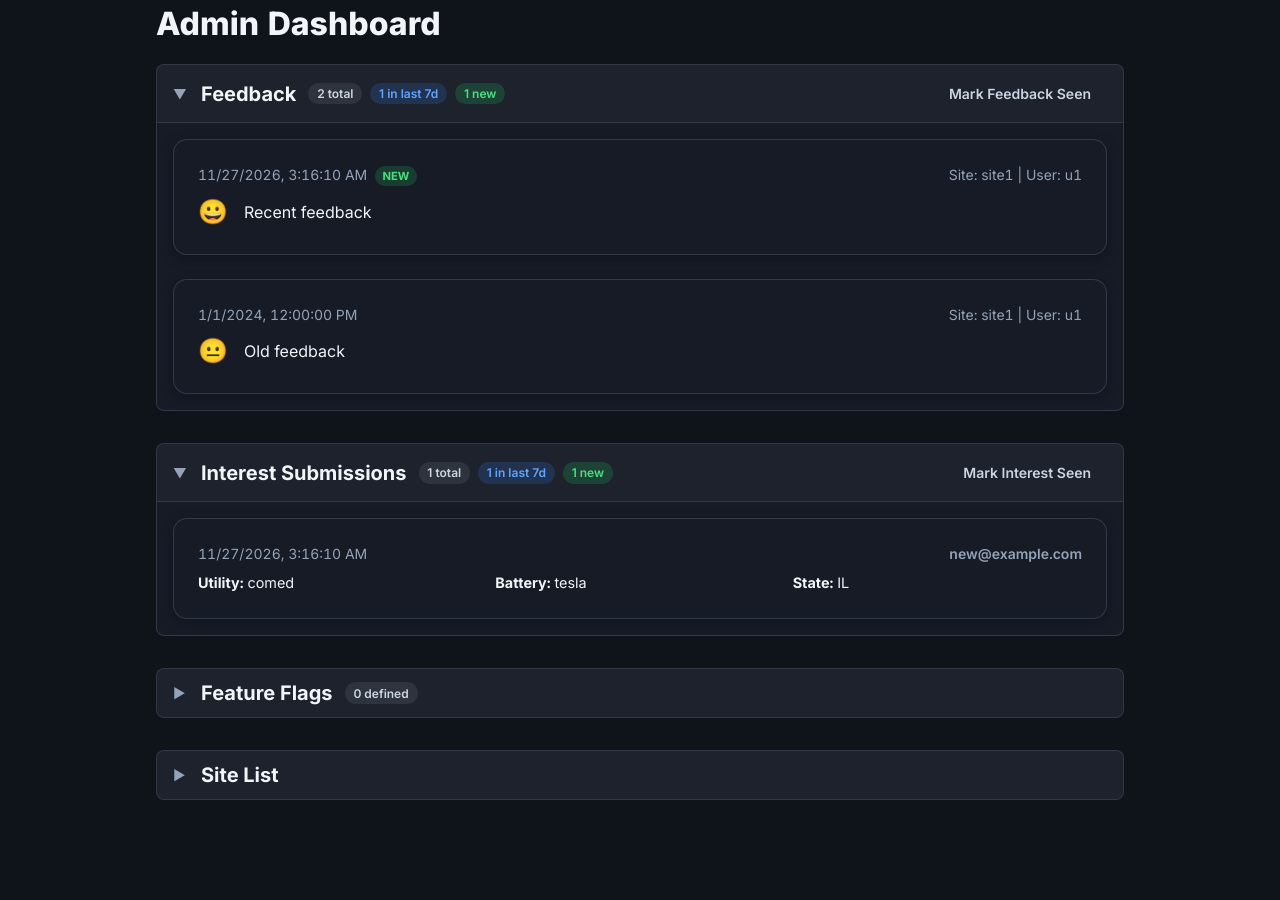
Test case: AdminPage › tracks 7d and unseen badges with localStorage for feedback and interest
Expected: the text "1 in last 7d" is shown 2 times, [370,83,447,104]; [478,462,555,484]
Expected: the text "1 new" is shown 2 times, [455,83,505,104]; [563,462,613,484]
Click the button "Mark Feedback Seen".
click(1020, 94)  # box [933,77,1107,110]
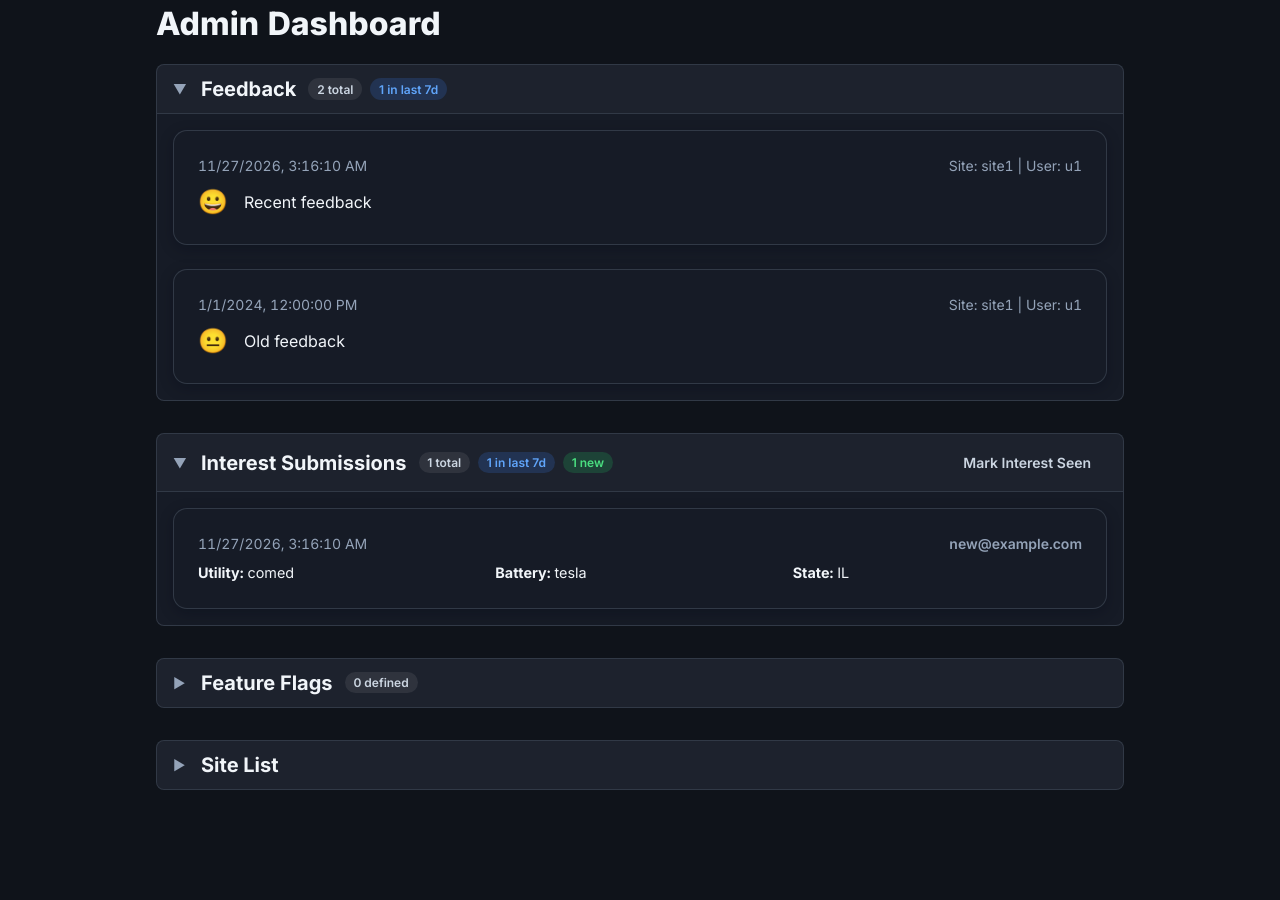
Expected: the button "Mark Feedback Seen" is gone
